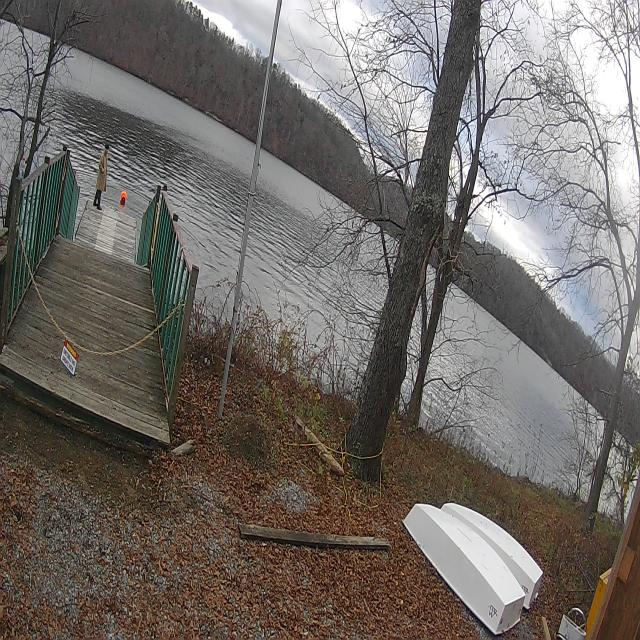Buoy: (120, 191, 127, 205)
